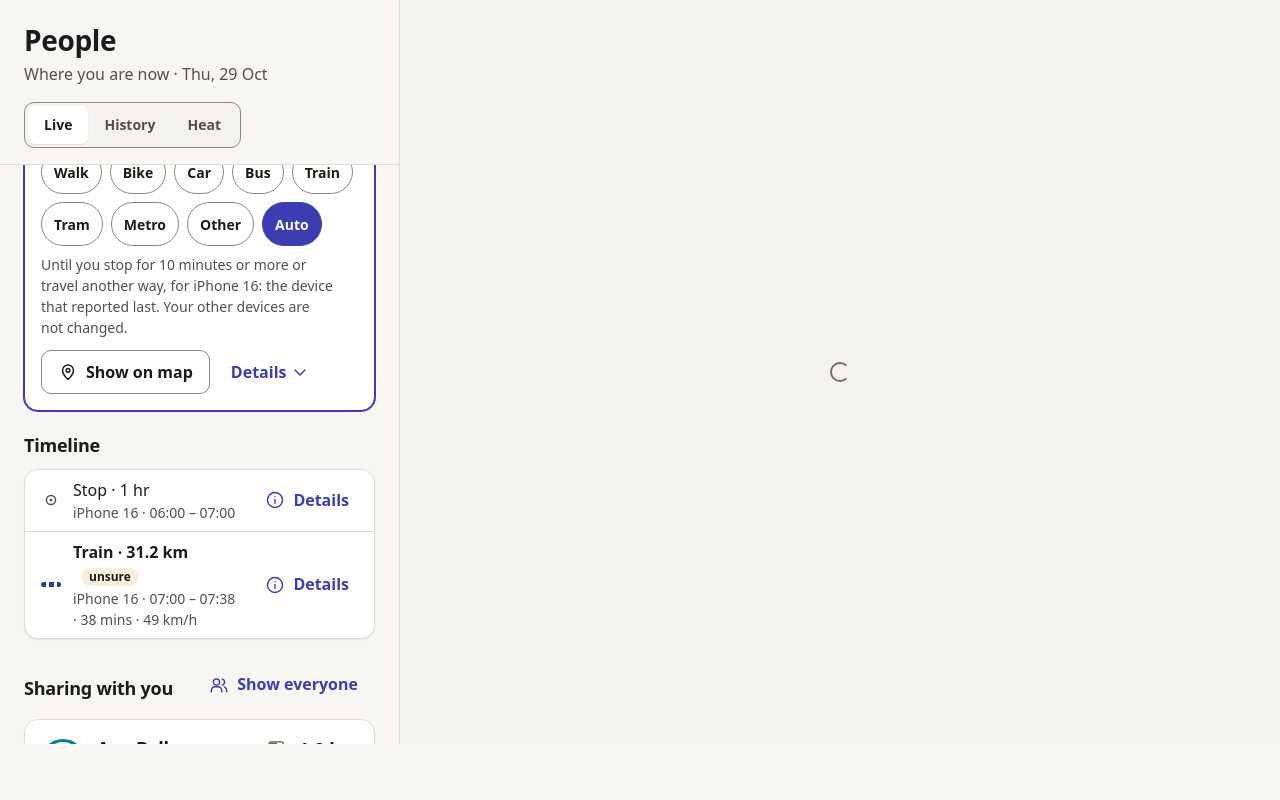
Test: the People page's list › keeps each device's facts in Me's Details, closed at first, with the way to Devices
(page scrolled)
Expected: the text "Standing still" is shown, [148,51,240,70]
Click the button "Details" below "Now:": (271, 372) [218,350,324,394]
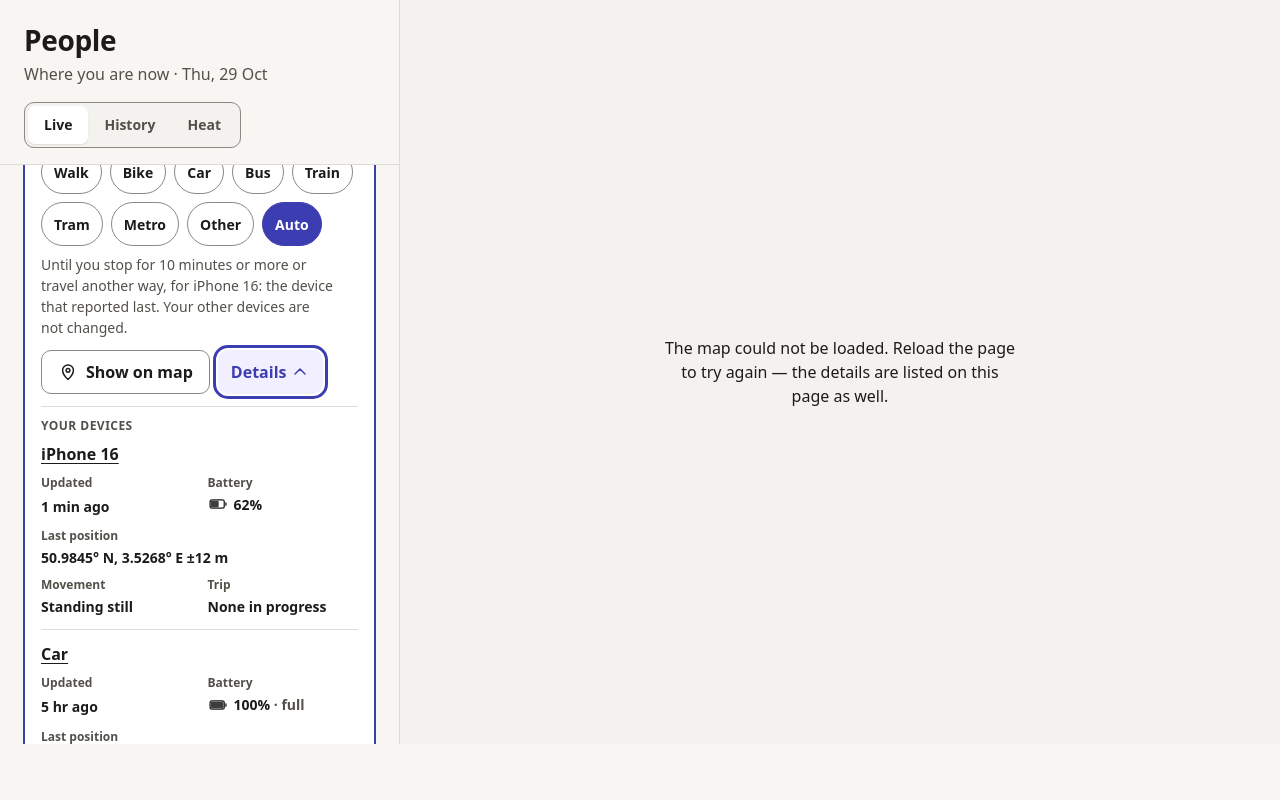
Result: the button "Details" is expanded
Result: the heading "Your devices" is shown at [41,417,133,434]
Result: the number of list items is 2 at [41,442,358,617]; [41,629,358,744]
Click the button "Details": (271, 372) [218,350,324,394]
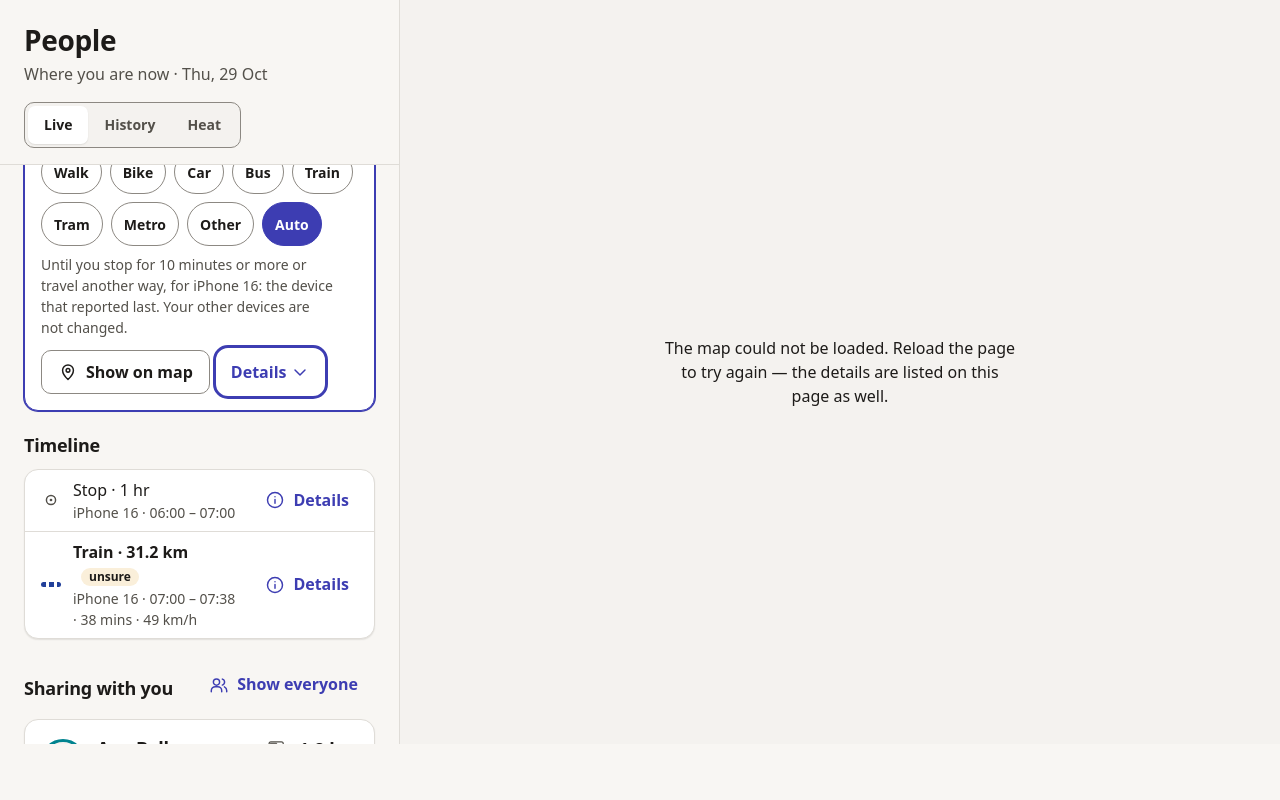
Result: the button "Details" below "Now:" is collapsed at [218,350,324,394]
